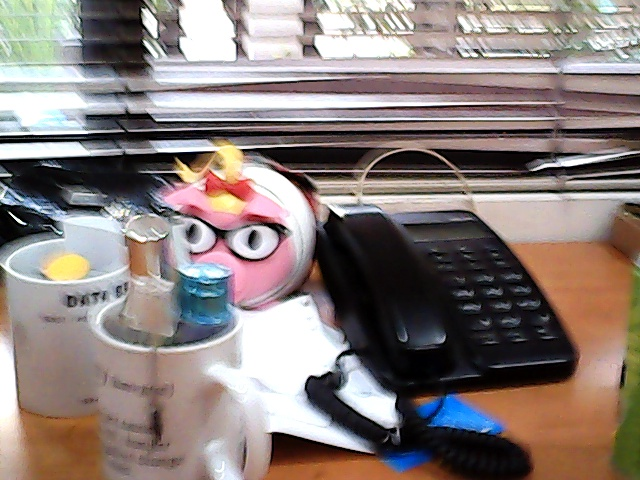Pine Juice: (596, 236, 640, 480)
